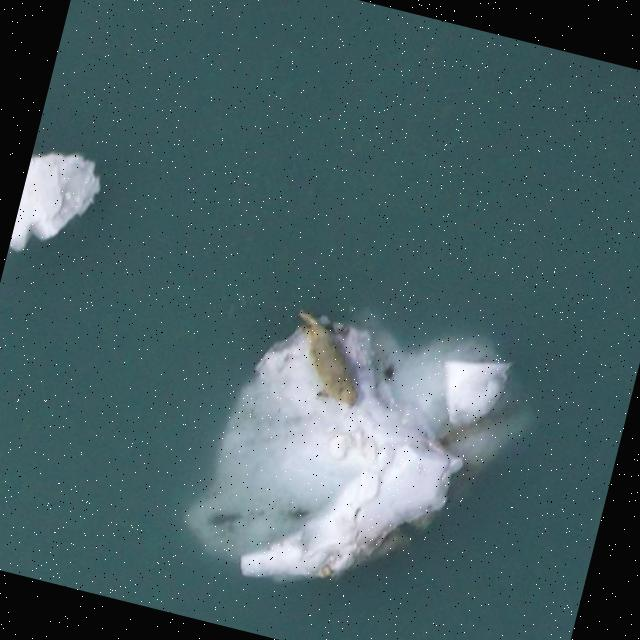seal: (297, 303, 360, 412)
